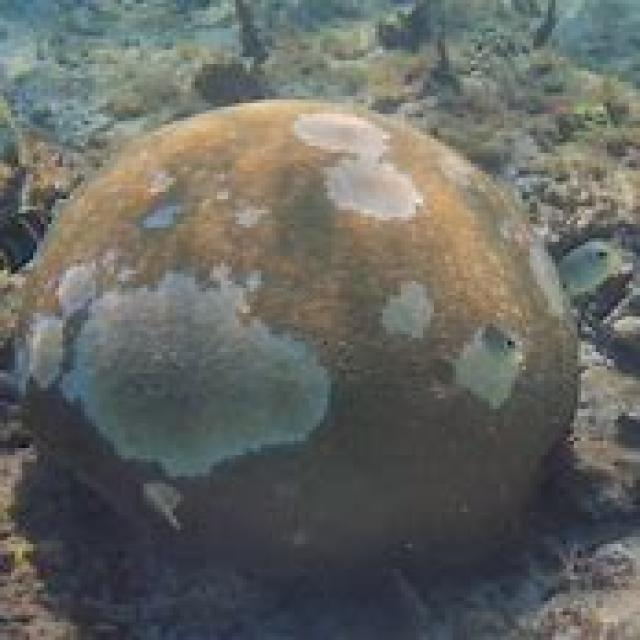Coral: (14, 96, 580, 574)
